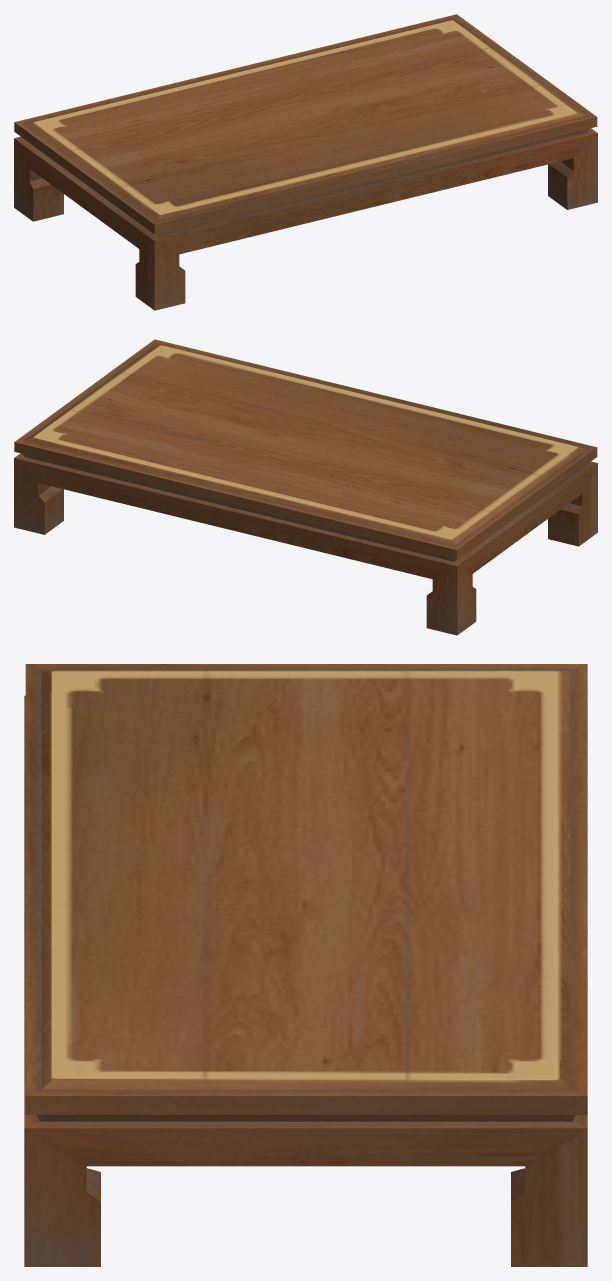
Rendered from Furniture_01_k.FBX.
3 views of the same model, one above another, from view 1: azimuth 30°, elevation 25°; view 2: azimuth 150°, elevation 25°; view 3: azimuth 270°, elevation 25° (orthographic). The views are drawn at different scales.
Parts seen in each view (by area): view 1: Furniture_01_k; view 2: Furniture_01_k; view 3: Furniture_01_k.
Boxes of the visible parts, box(x1,y1,x2,y2) form: Furniture_01_k: box(14, 14, 597, 310); Furniture_01_k: box(14, 339, 597, 635); Furniture_01_k: box(24, 664, 587, 1266).
Bounding box in the file's own units: 82.08 × 15.5 × 45.16.
